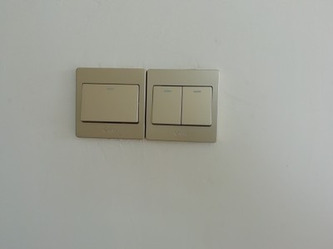switch: (78, 80, 142, 127), (179, 83, 216, 129), (150, 82, 185, 127)
